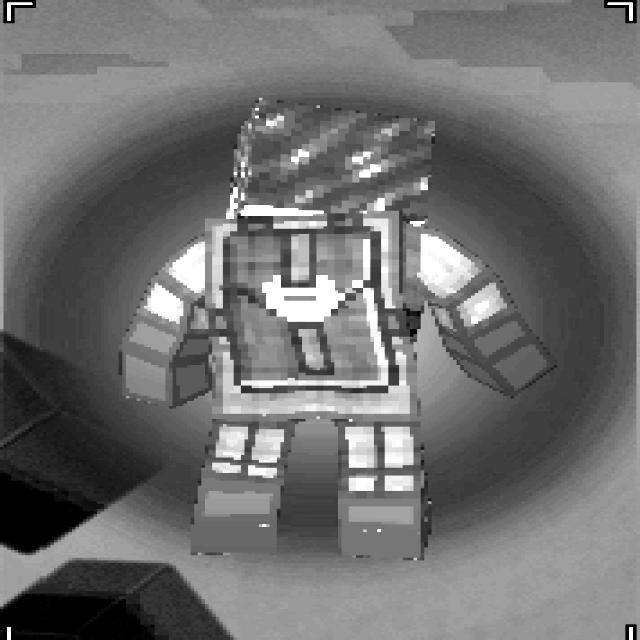Head: (223, 98, 435, 221)
Player: (115, 95, 554, 560)
